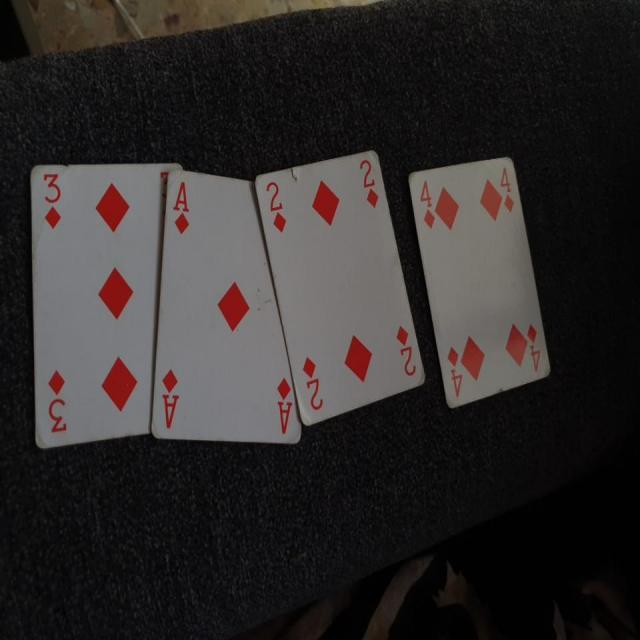2 of diamonds: (254, 152, 427, 424)
3 of diamonds: (27, 156, 186, 457)
4 of diamonds: (406, 154, 556, 412)
ace of diamonds: (148, 172, 304, 450)
